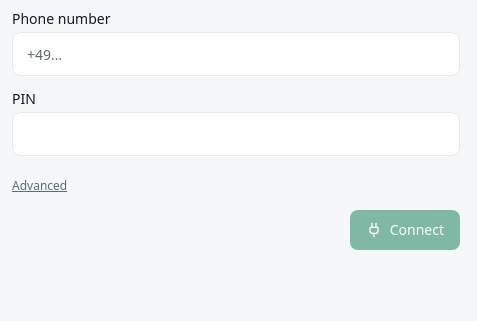
it: TrConnectFlow › returns to the form with an error when the status poll reports a failed pairing
Step 1. Type "+49150" into the field labelled "Phone number" → (236, 54), box left=12, top=32, right=460, bottom=76
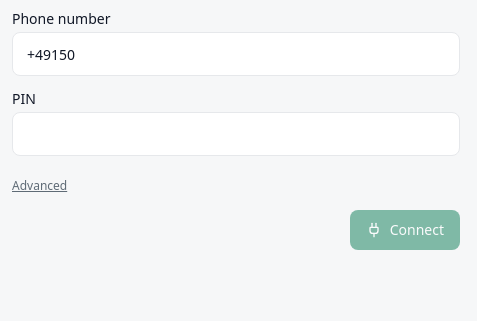
Step 2. Type "1234" into the password field labelled "PIN" → (236, 134), box left=12, top=112, right=460, bottom=156
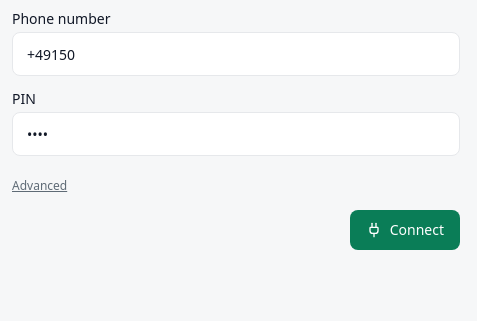
Step 3. Click the button "Connect" → click(405, 230), box left=350, top=210, right=460, bottom=250
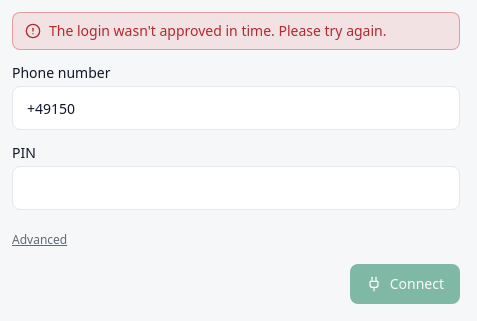
Expected: the button "Connect" is shown, left=350, top=264, right=460, bottom=304
Expected: the message "The login wasn't approved in time. Please try again." is shown, left=12, top=12, right=460, bottom=50
